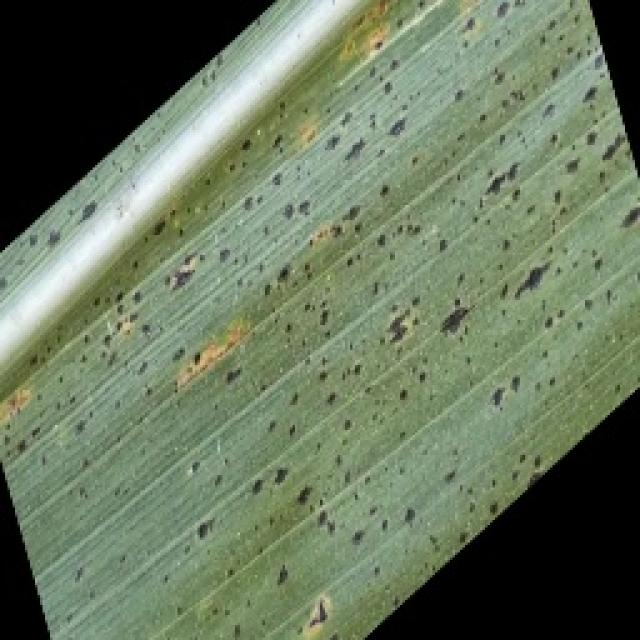Tar_Spot: (209, 150, 596, 545)
